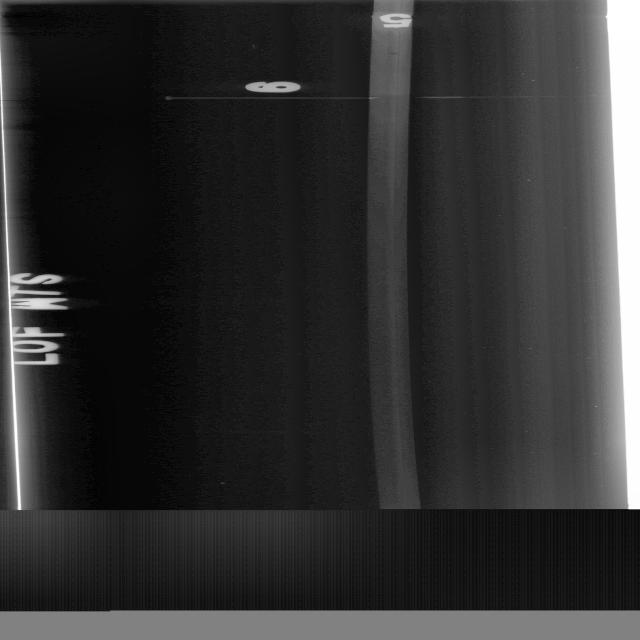LOP: (390, 80, 403, 147), (393, 29, 404, 80), (390, 148, 400, 192)
